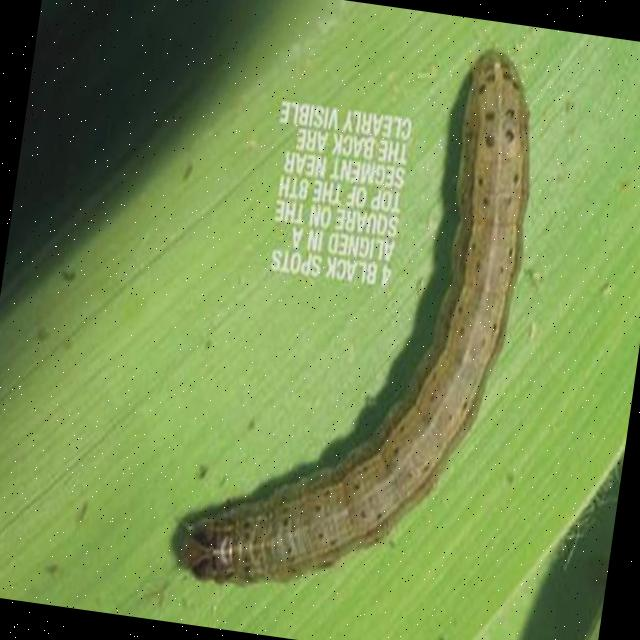worm: (171, 18, 553, 626)
